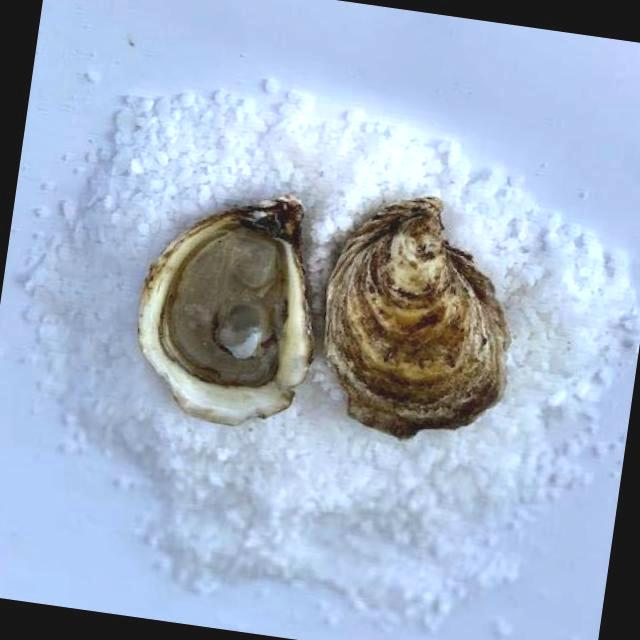Oyster-Closed: (321, 197, 507, 442)
Oyster-Open: (139, 200, 311, 428)
